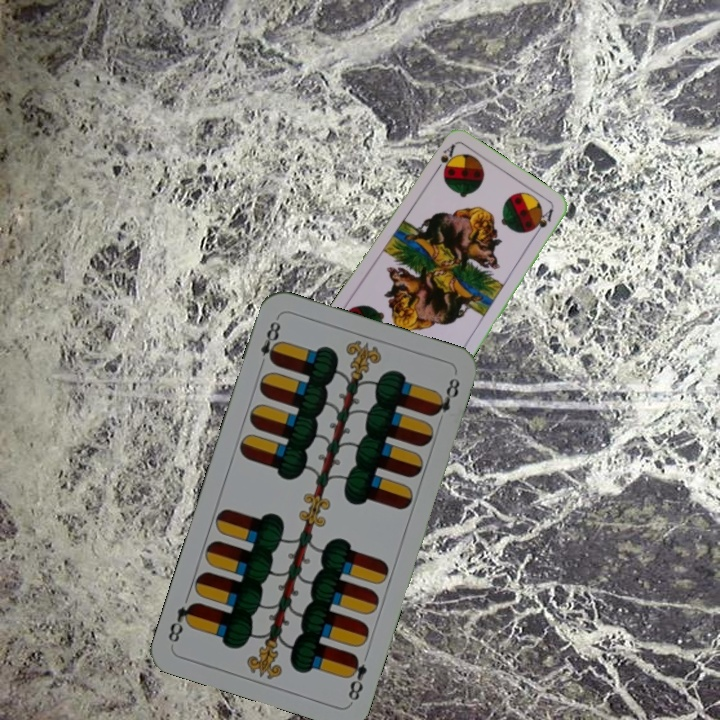E8: (255, 314, 284, 371), (343, 650, 370, 703)
SA: (430, 140, 458, 177)
